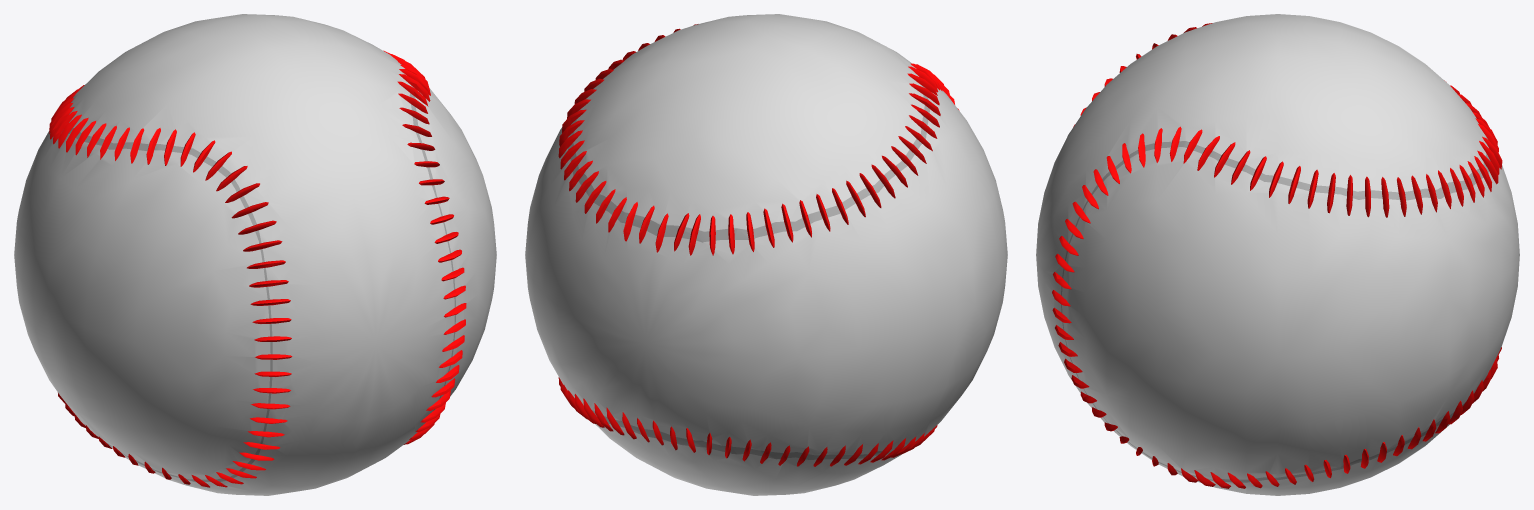
Rendered from baseball.gltf.
3 renders of one model, left to right at view 1: azimuth 30°, elevation 25°; view 2: azimuth 150°, elevation 25°; view 3: azimuth 270°, elevation 25°, orthographic.
Parts seen in each view (by area): view 1: Leather, Stitching, Gap; view 2: Leather, Stitching, Gap; view 3: Leather, Stitching, Gap.
Boxes of the visible parts, x1,y1,x2,y2 form: Leather: (14, 14, 496, 495); Stitching: (49, 50, 466, 487); Gap: (62, 86, 455, 481); Leather: (525, 14, 1007, 495); Stitching: (558, 24, 959, 466); Gap: (568, 69, 929, 459); Leather: (1036, 14, 1519, 495); Stitching: (1052, 23, 1502, 488); Gap: (1061, 137, 1490, 482).
Size of the model in its own units: 0.0686 by 0.0686 by 0.0686.
